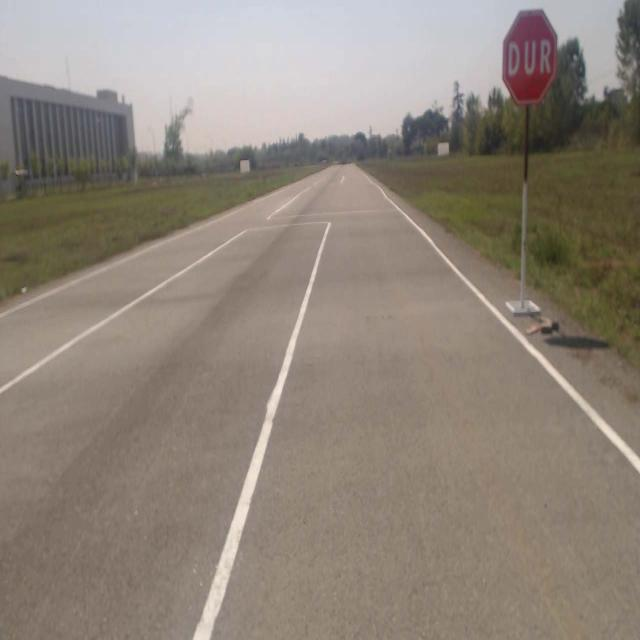dur: (502, 9, 556, 102)
